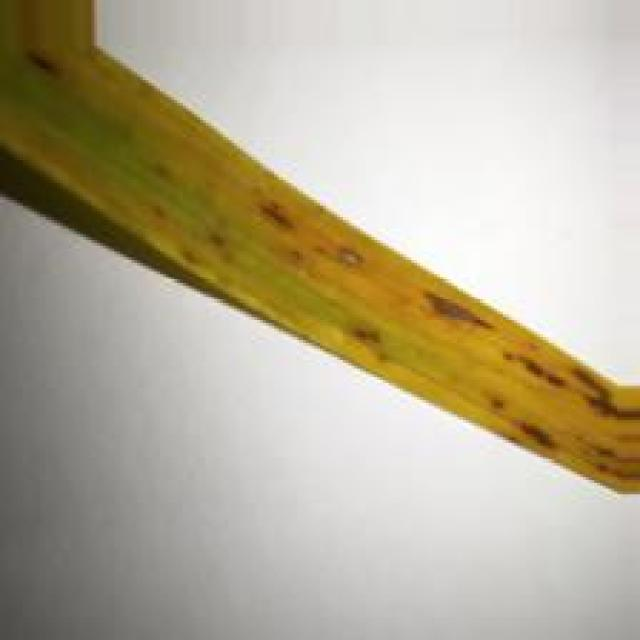Narrow_Brown_Leaf_Spot: (0, 0, 640, 500)
